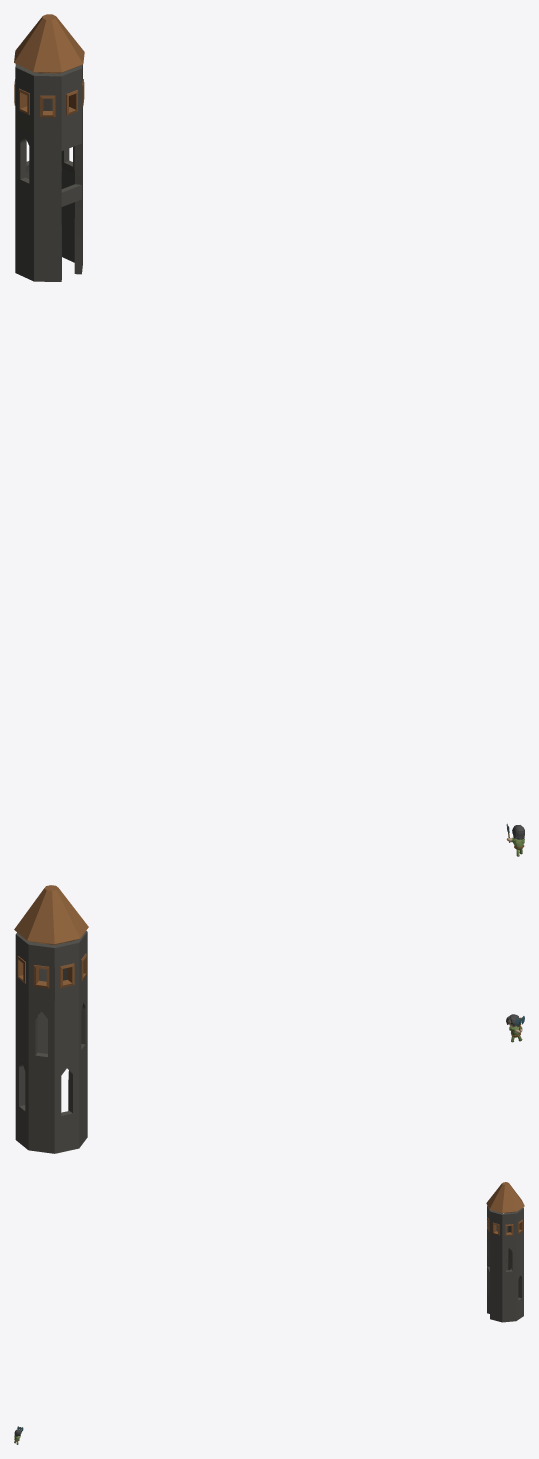
The picture shows the model from 3 angles, top to bottom: view 1: azimuth 30°, elevation 25°; view 2: azimuth 150°, elevation 25°; view 3: azimuth 270°, elevation 25°; orthographic projection. The views are drawn at different scales.
Parts seen in each view (by area): view 1: Cylinder1450_wall_0, Object128_brown_0, Object146_brown_0; view 2: Cylinder1450_wall_0, Object128_brown_0, Object146_brown_0; view 3: Cylinder1450_wall_0, Object128_brown_0.
Boxes of the visible parts, x1,y1,x2,y2 form: Cylinder1450_wall_0: [15, 64, 82, 281]; Object128_brown_0: [14, 14, 84, 72]; Object146_brown_0: [14, 72, 84, 117]; Cylinder1450_wall_0: [15, 930, 87, 1153]; Object128_brown_0: [14, 885, 88, 944]; Object146_brown_0: [17, 942, 86, 988]; Cylinder1450_wall_0: [487, 1205, 523, 1322]; Object128_brown_0: [486, 1182, 524, 1213].
Size of the model in its own units: 411 by 3042 by 5422.
